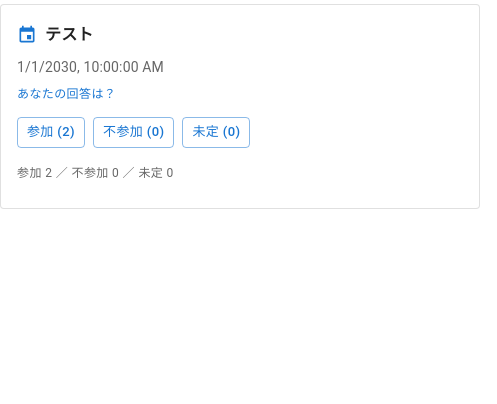
Test case: EventCard - 会話イベント投稿 (#108) › 参加者一覧表示 › 参加者一覧には各ユーザーの表示名とアバターが並ぶ
The width and height of the screenshot is (497, 404).
Click the button with test id "event-summary".
click(95, 173)  # box top-left (17, 166), bottom-right (174, 180)
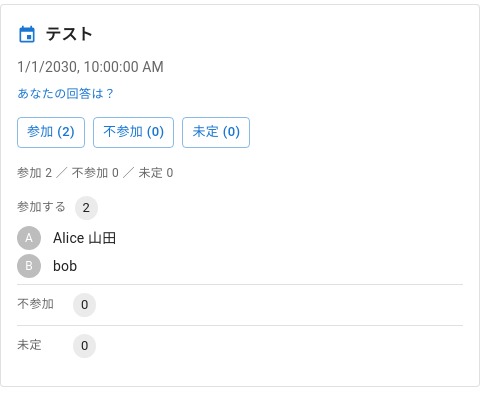
Expected: the element with test id "rsvp-panel" is shown, top-left (17, 196), bottom-right (116, 358)
Expected: the text "Alice 山田" is shown, top-left (53, 230), bottom-right (116, 246)
Expected: the text "bob" is shown, top-left (53, 258), bottom-right (77, 274)
